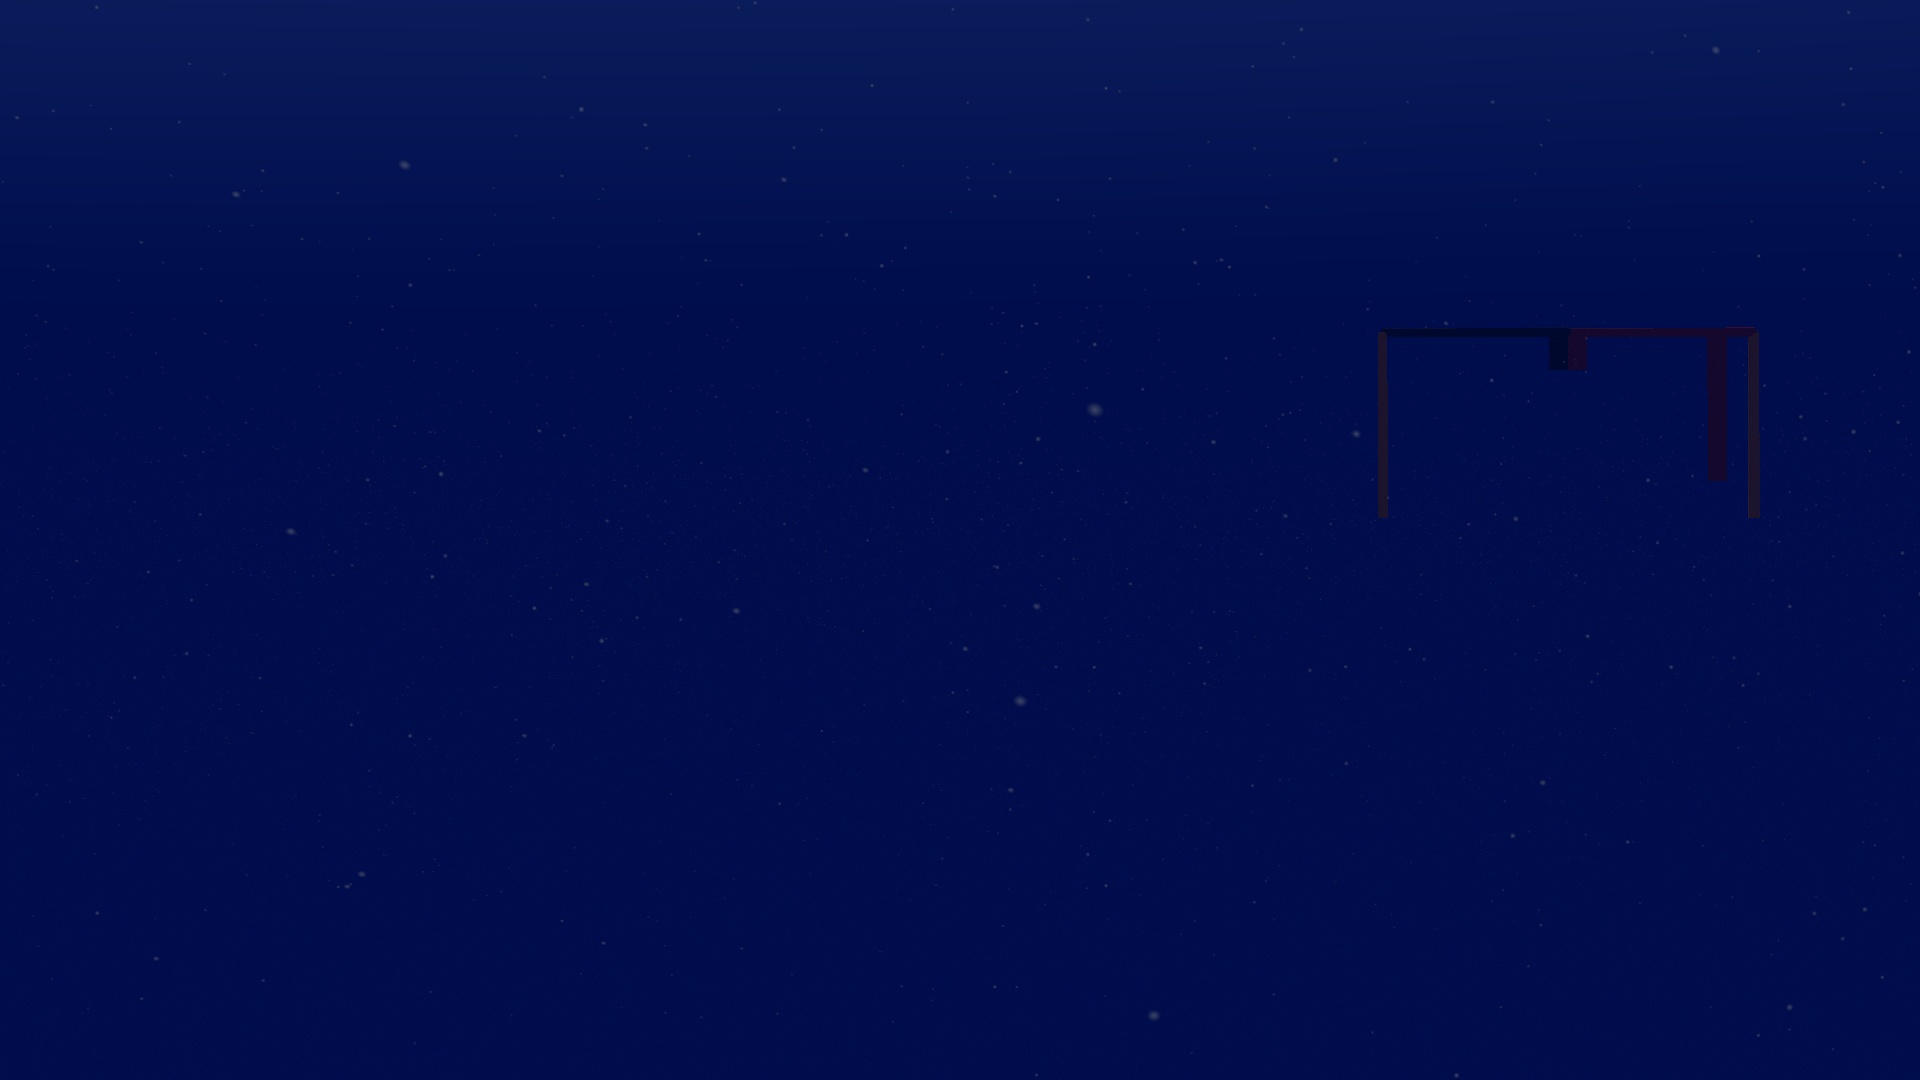Gate: (1373, 320, 1770, 525)
